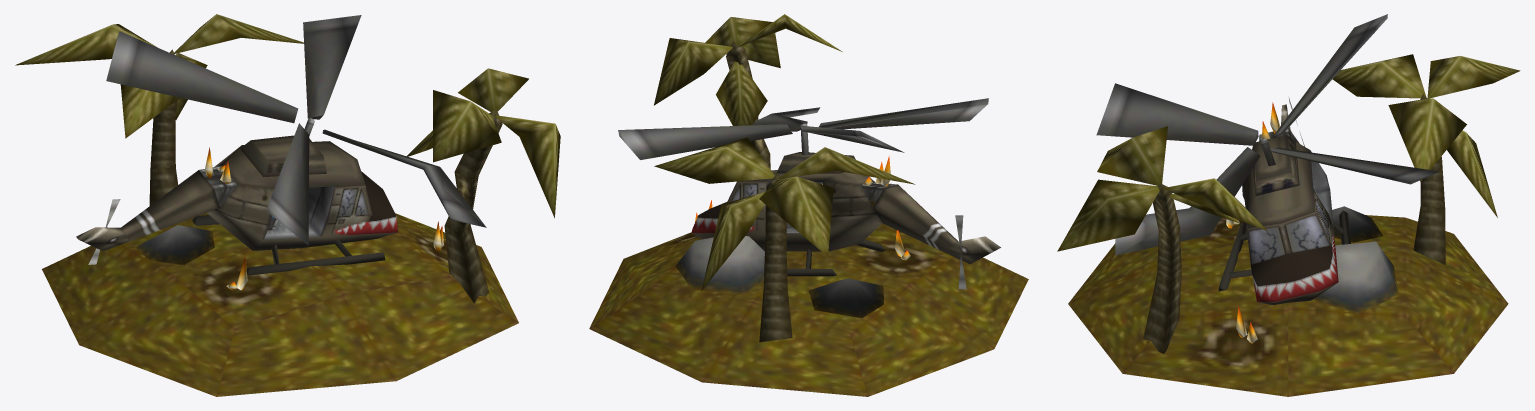
The model's file is delete.ico.obj.
3 renders of one model, left to right at view 1: azimuth 30°, elevation 25°; view 2: azimuth 150°, elevation 25°; view 3: azimuth 270°, elevation 25°, orthographic. The views are drawn at different scales.
Size of the model in its own units: 4.64 by 2.75 by 4.83.
Materials: 1 (1 with a texture image).
